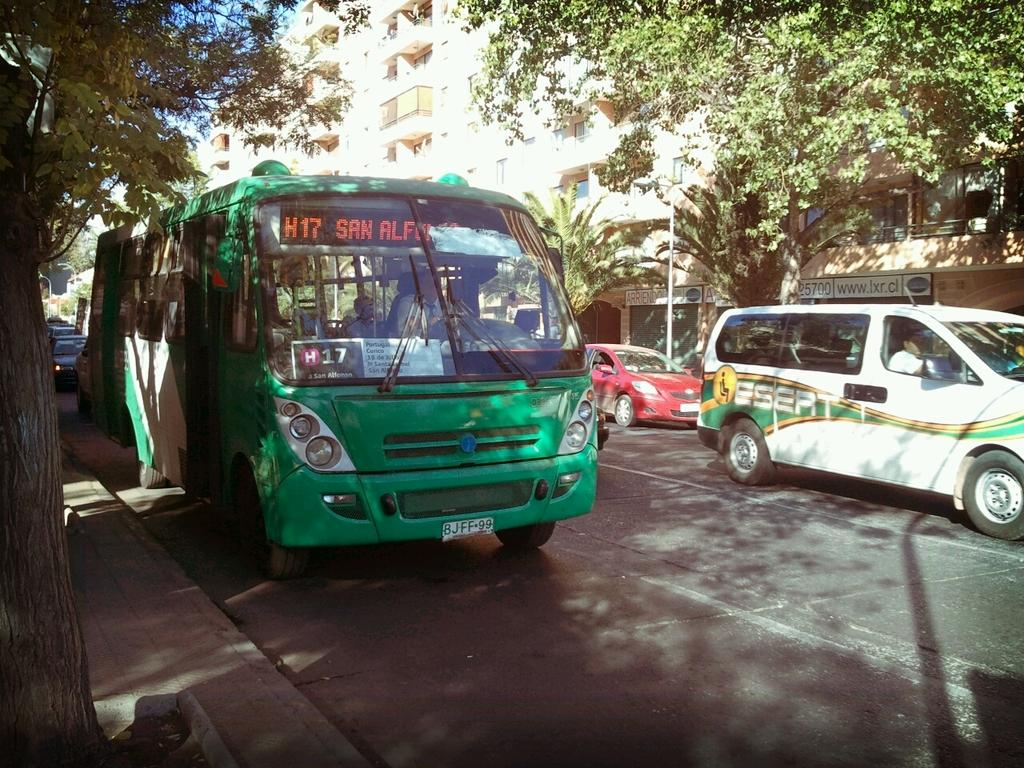Bus: (77, 157, 605, 559)
